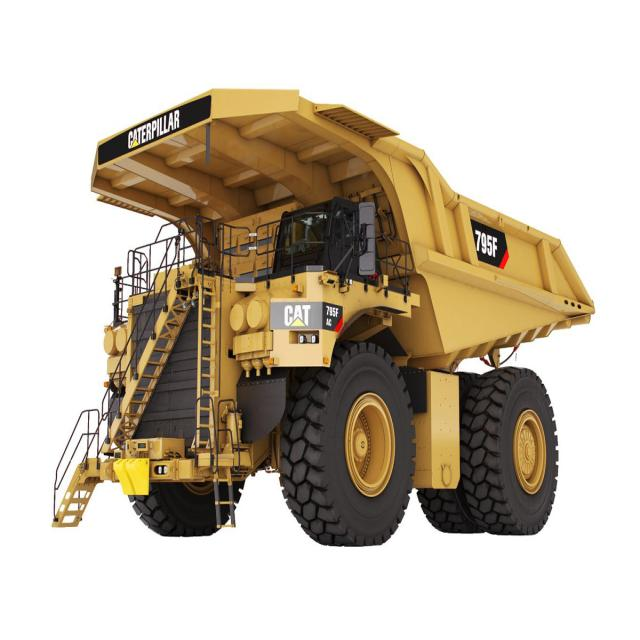dump_truck: (45, 84, 598, 553)
